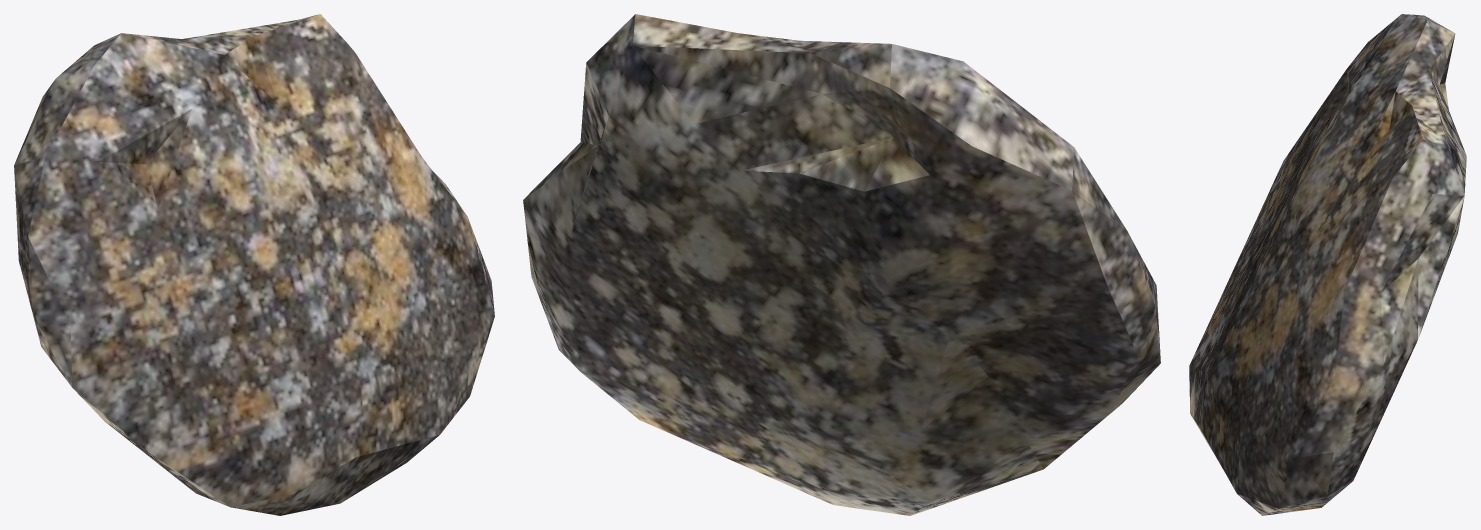
3 views of the same model, side by side, from view 1: azimuth 30°, elevation 25°; view 2: azimuth 150°, elevation 25°; view 3: azimuth 270°, elevation 25° (orthographic). The views are drawn at different scales.
Visible parts, largest first — view 1: rock025_lod4; view 2: rock025_lod4; view 3: rock025_lod4.
Part boxes in pixels (<box>): rock025_lod4: <box>14,14,494,515</box>; rock025_lod4: <box>523,14,1160,515</box>; rock025_lod4: <box>1189,14,1466,515</box>.
Size of the model in its own units: 1 by 0.8946 by 0.5362.
1 material, 1 textured.
